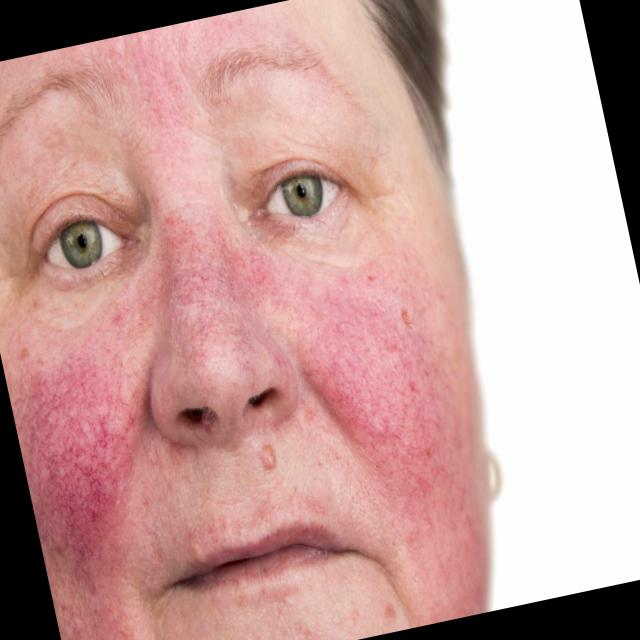redness: (16, 202, 488, 640), (0, 11, 300, 174)
